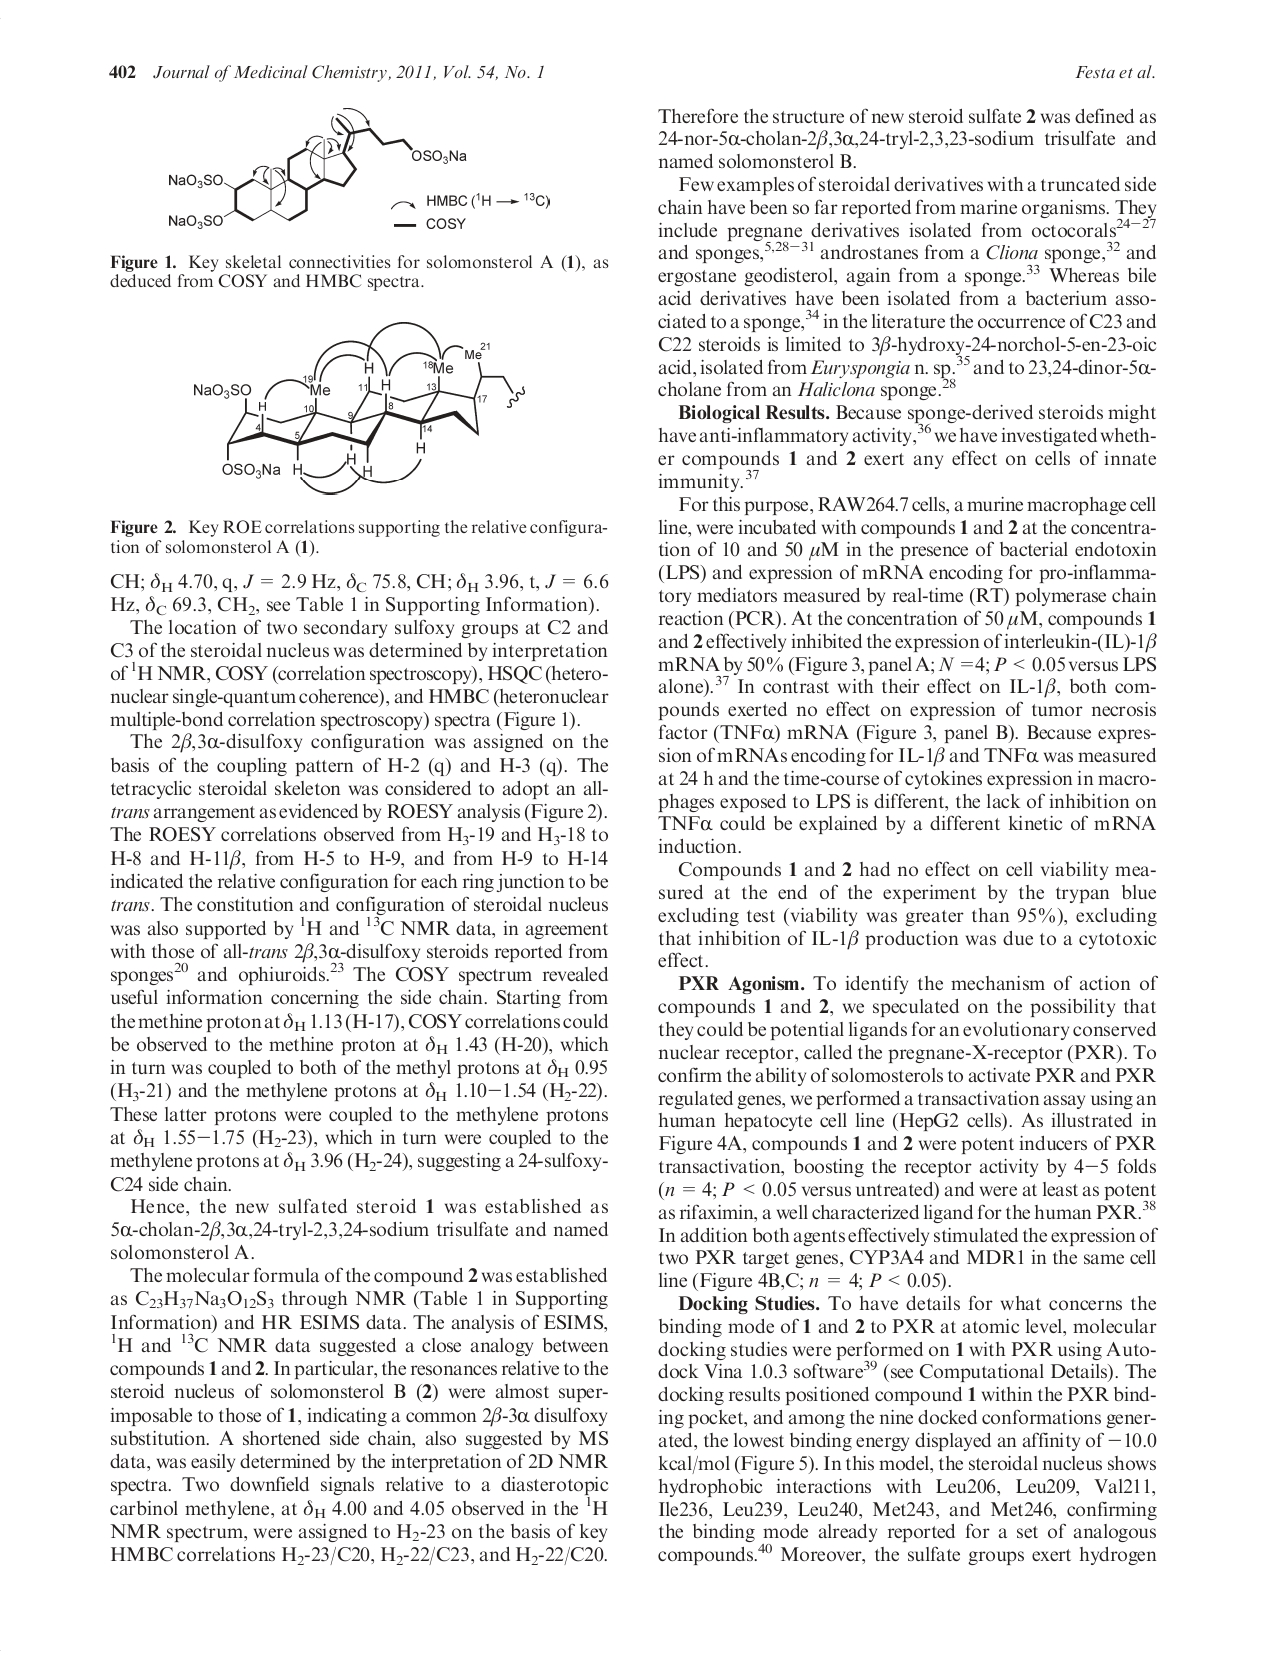exist_molecular: (190, 321, 527, 497), (164, 105, 469, 231)
